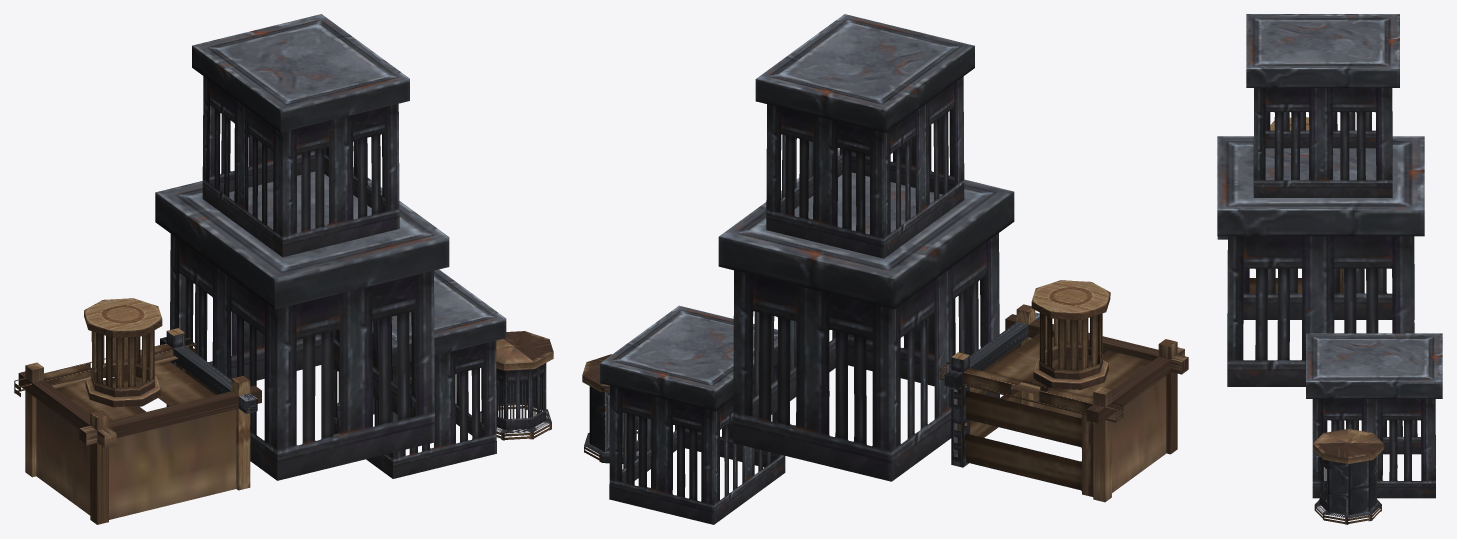
The picture shows the model from 3 angles, left to right: view 1: azimuth 30°, elevation 25°; view 2: azimuth 150°, elevation 25°; view 3: azimuth 270°, elevation 25°; orthographic projection. The views are drawn at different scales.
Parts seen in each view (by area): view 1: Object003; view 2: Object003; view 3: Object003.
Part boxes in pixels (box(x1,y1,x2,y2)): Object003: box(14, 14, 553, 524); Object003: box(582, 14, 1188, 524); Object003: box(1217, 14, 1442, 524).
Size of the model in its own units: 113 by 88.34 by 47.85.
Materials: 1 (1 with a texture image).
